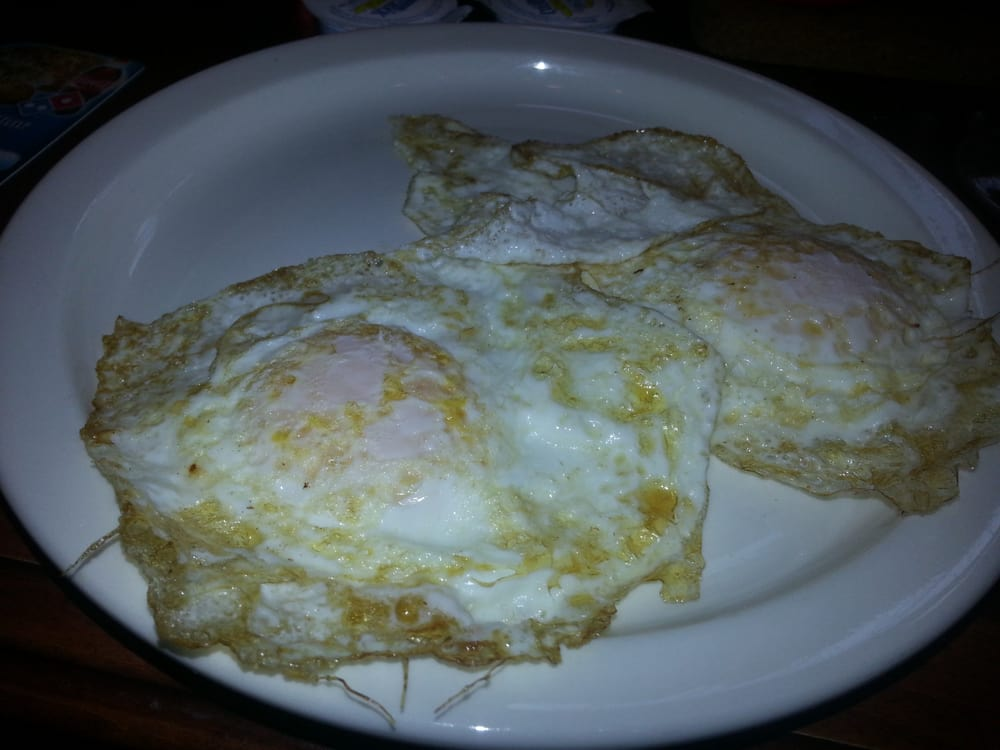fried_eggs: (101, 253, 701, 658), (644, 205, 1000, 507), (400, 110, 769, 272)
